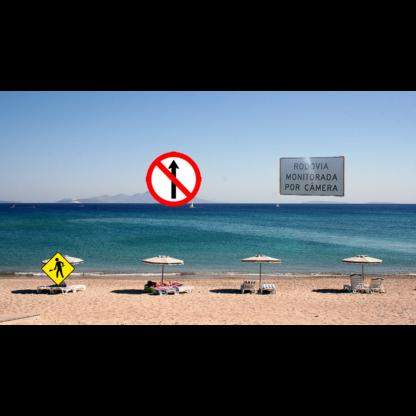A-24: (41, 251, 75, 286)
I-E: (280, 156, 344, 197)
R-3: (146, 152, 201, 206)
